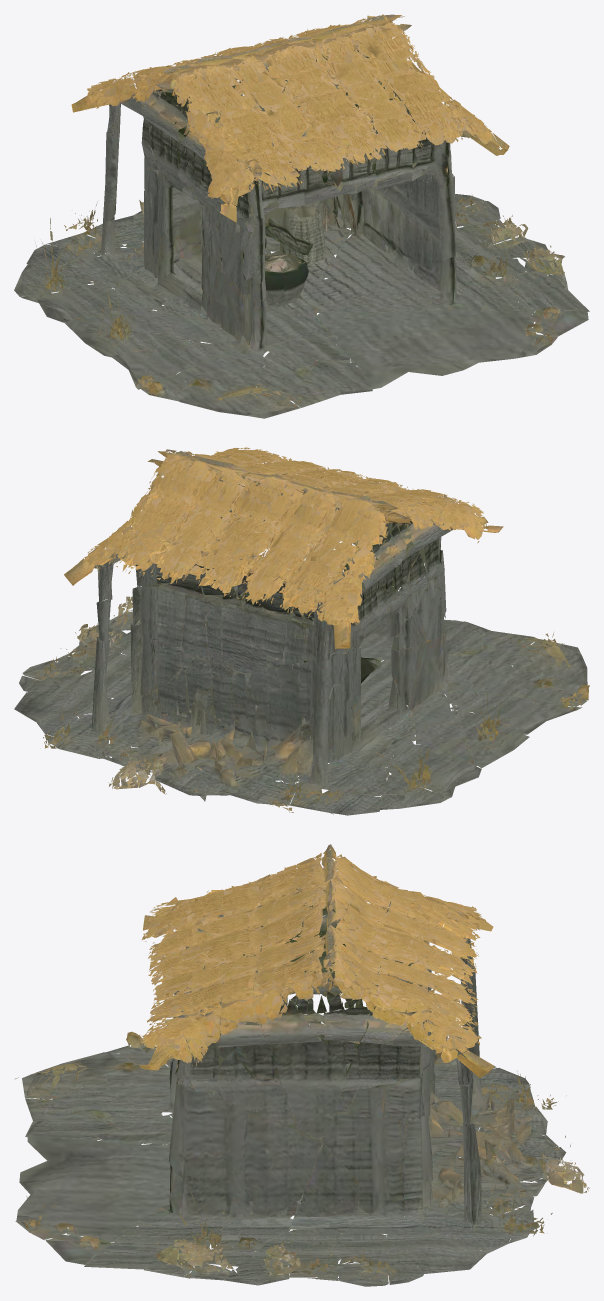
The model's file is naya.glb.
3 views of the same model, one above another, from view 1: azimuth 30°, elevation 25°; view 2: azimuth 150°, elevation 25°; view 3: azimuth 270°, elevation 25° (orthographic). The views are drawn at different scales.
Parts seen in each view (by area): view 1: Mesh_0; view 2: Mesh_0; view 3: Mesh_0.
Part boxes in pixels (x1,y1,x2,y2): Mesh_0: [14, 14, 589, 418]; Mesh_0: [14, 447, 589, 815]; Mesh_0: [14, 844, 589, 1286].
Bounding box in the file's own units: 1.8 × 0.9279 × 1.8.
Materials: 1 (1 with a texture image).
